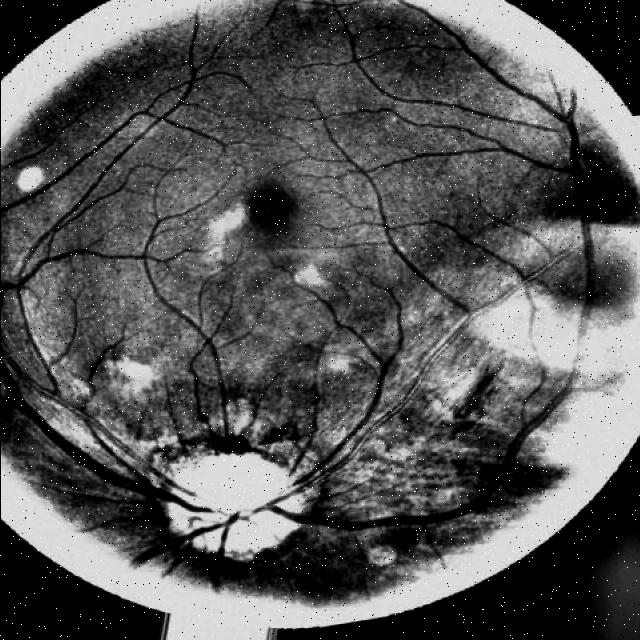Macula: (247, 184, 296, 235)
Nerves: (0, 272, 425, 573), (0, 221, 235, 452), (428, 16, 591, 188), (417, 375, 572, 524), (33, 116, 171, 249), (380, 212, 485, 360), (36, 364, 140, 477), (355, 169, 379, 204)
Optic Disk: (164, 452, 303, 559)
